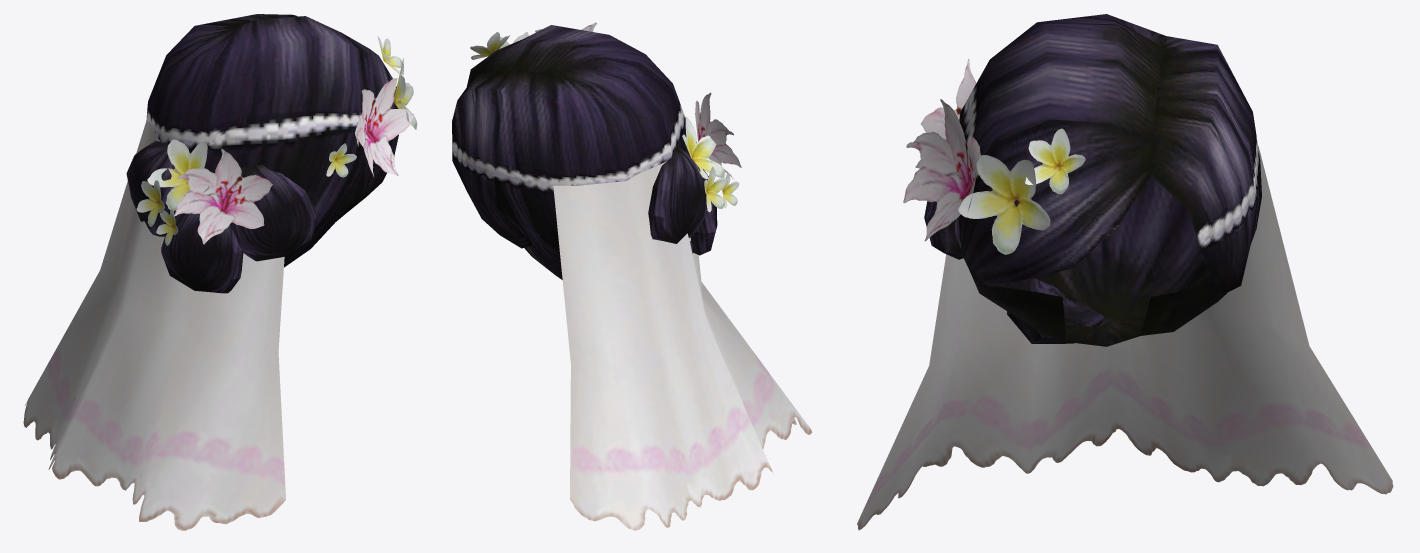
Rendered from hat_0450072.FBX.
The picture shows the model from 3 angles, left to right: view 1: azimuth 30°, elevation 25°; view 2: azimuth 150°, elevation 25°; view 3: azimuth 270°, elevation 25°; orthographic projection. The views are drawn at different scales.
Visible parts, largest first — view 1: hat_0450072; view 2: hat_0450072; view 3: hat_0450072.
Boxes of the visible parts, x1,y1,x2,y2 form: hat_0450072: [23, 14, 417, 530]; hat_0450072: [452, 22, 812, 530]; hat_0450072: [857, 14, 1393, 530].
Size of the model in its own units: 39.68 by 46.14 by 40.15.
